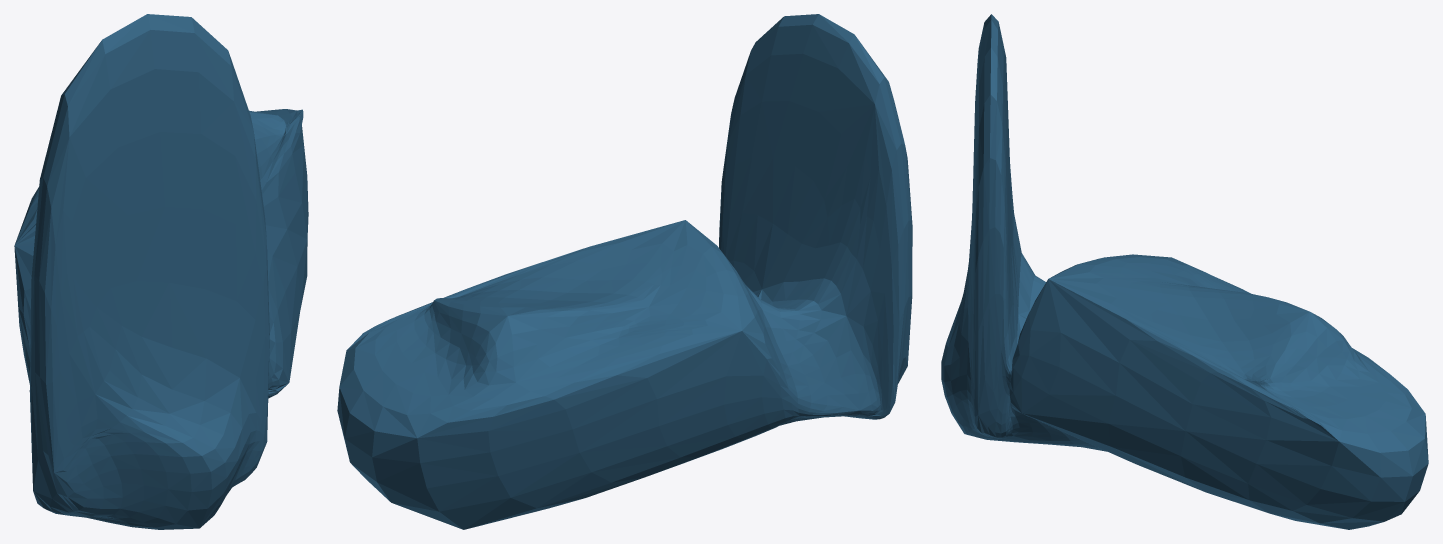
3 views of the same model, side by side, from view 1: azimuth 30°, elevation 25°; view 2: azimuth 150°, elevation 25°; view 3: azimuth 270°, elevation 25° (orthographic). The views are drawn at different scales.
Visible parts, largest first — view 1: 867_Cube.3503; view 2: 867_Cube.3503; view 3: 867_Cube.3503.
Boxes of the visible parts, <box> form: 867_Cube.3503: <box>14,14,308,529</box>; 867_Cube.3503: <box>337,14,912,529</box>; 867_Cube.3503: <box>941,14,1428,529</box>.
Size of the model in its own units: 11.97 by 12.36 by 13.18.
